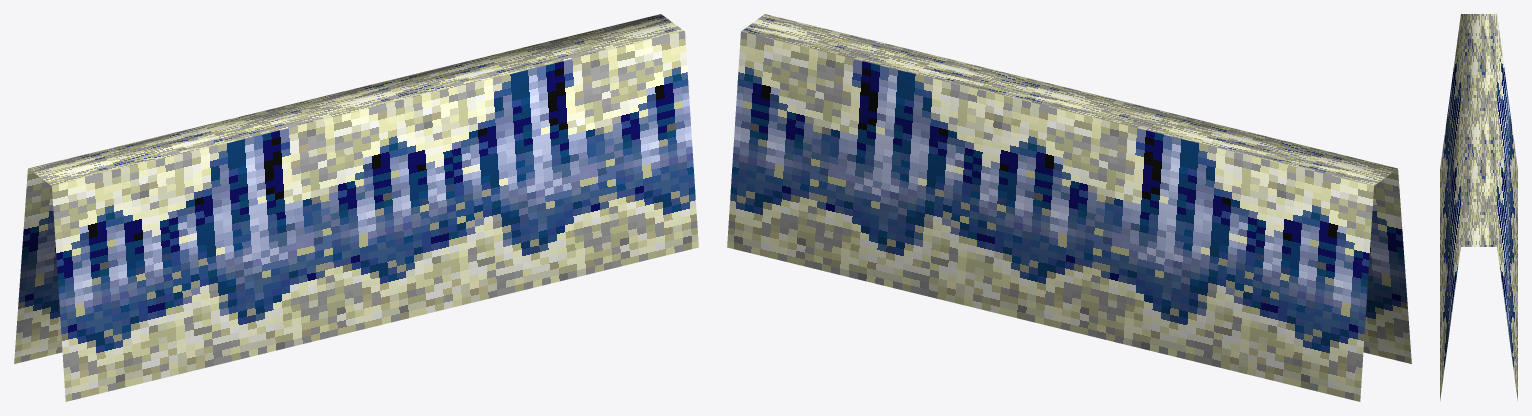
File: MobileWallWallZ.glb
3 renders of one model, left to right at view 1: azimuth 30°, elevation 25°; view 2: azimuth 150°, elevation 25°; view 3: azimuth 270°, elevation 25°, orthographic. The views are drawn at different scales.
Visible parts, largest first — view 1: MobileWallWallZ; view 2: MobileWallWallZ; view 3: MobileWallWallZ.
Boxes of the visible parts, <box> form: MobileWallWallZ: <box>14,14,698,401</box>; MobileWallWallZ: <box>727,14,1411,401</box>; MobileWallWallZ: <box>1440,14,1517,400</box>.
Bounding box in the file's own units: 31.87 × 9.9 × 4.5.
Materials: 2 (2 with a texture image).
